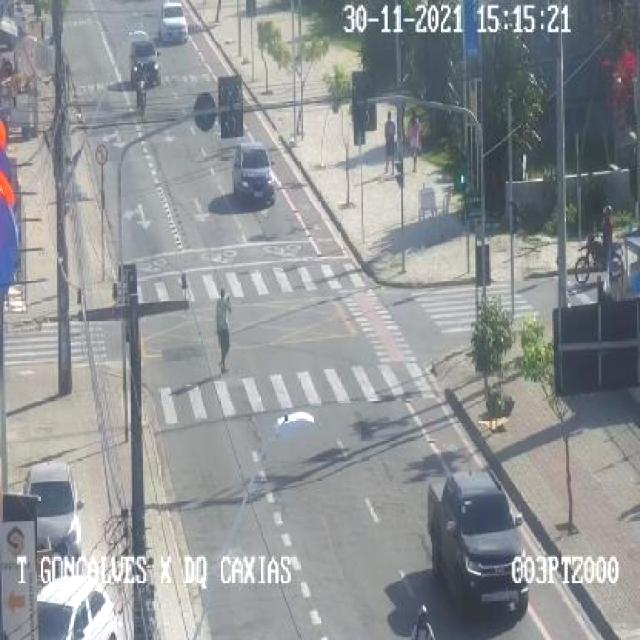Car: (420, 472, 541, 614), (11, 450, 99, 566), (27, 572, 136, 640), (230, 140, 284, 218), (146, 0, 204, 50), (131, 33, 166, 84)
Cycle: (573, 212, 627, 289)
